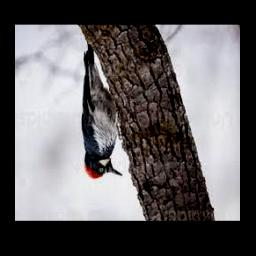Woodpecker: (82, 43, 123, 179)
